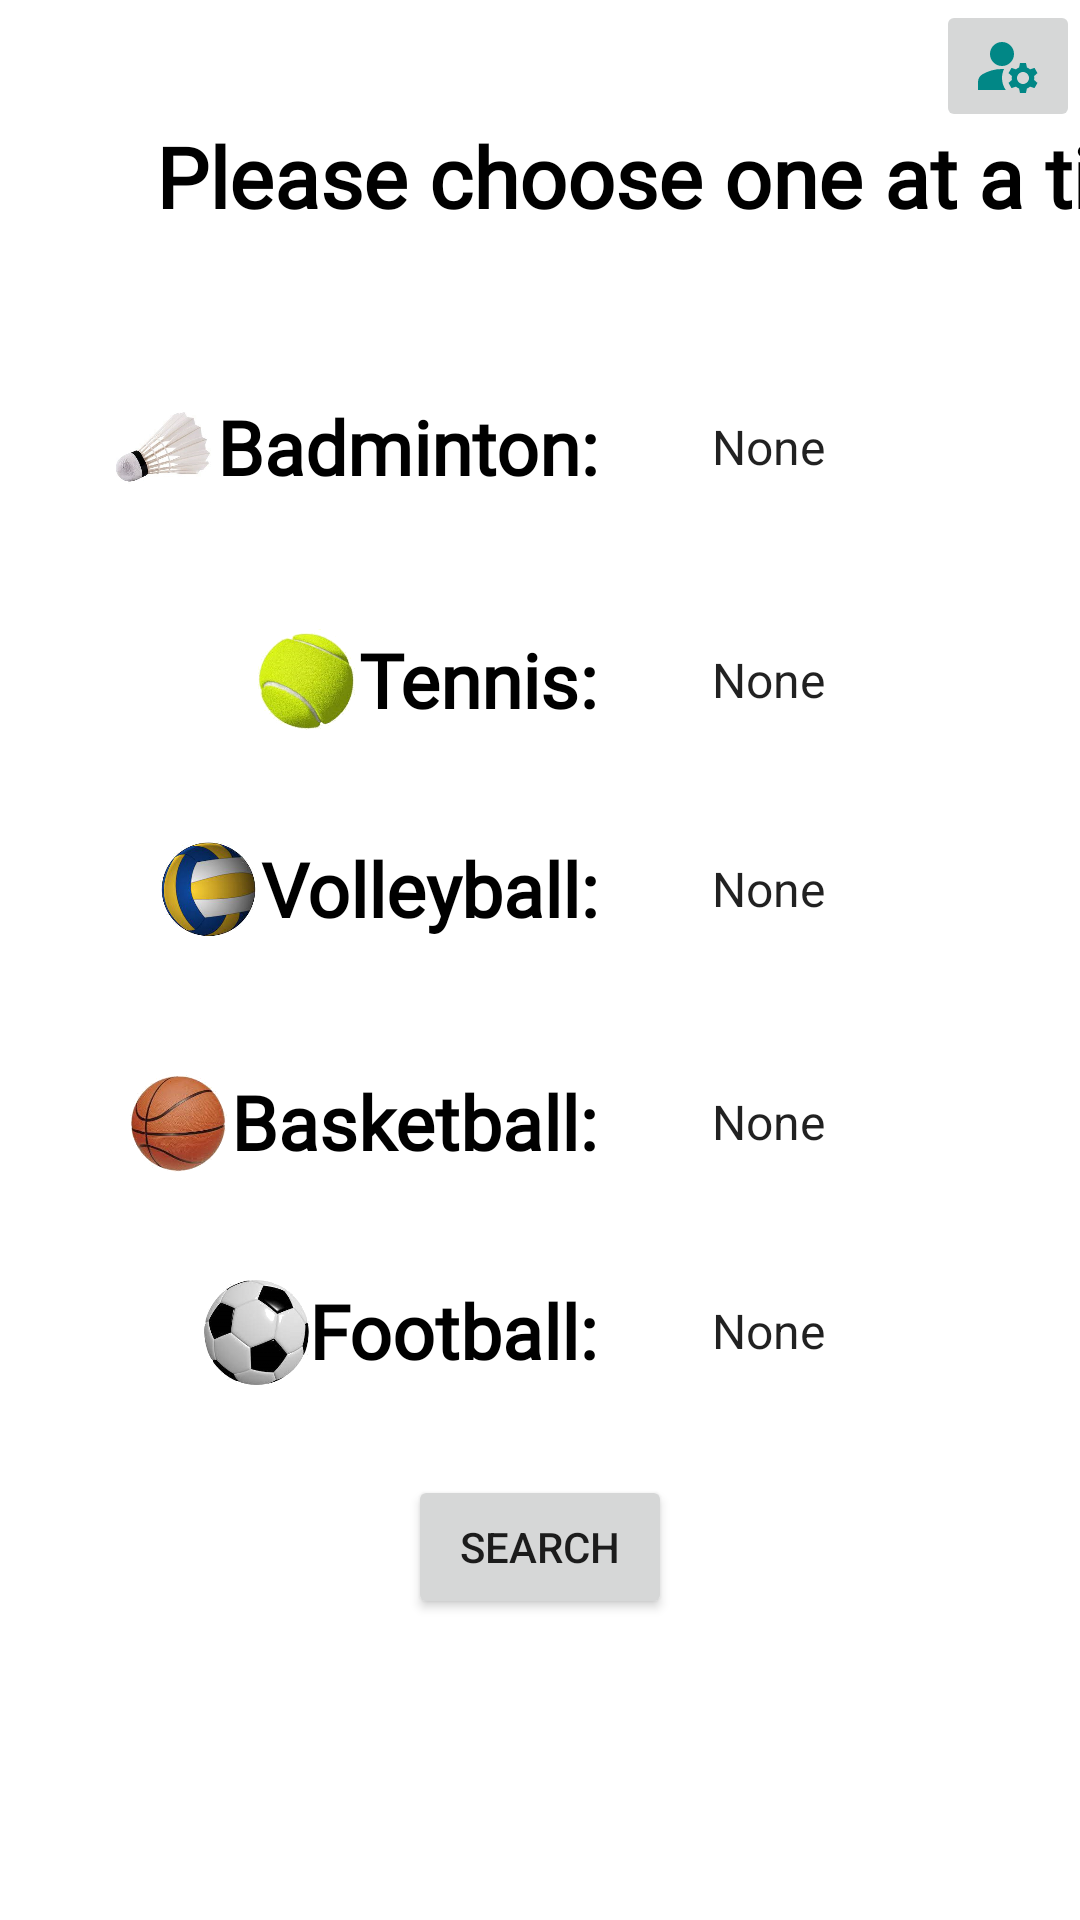

Icon bounding boxes for this 1080 × 1920 phone screenshot, format [left=x1, top=y1, right=x2, bottom=y2]:
manage accounts: [left=948, top=18, right=1068, bottom=114]
